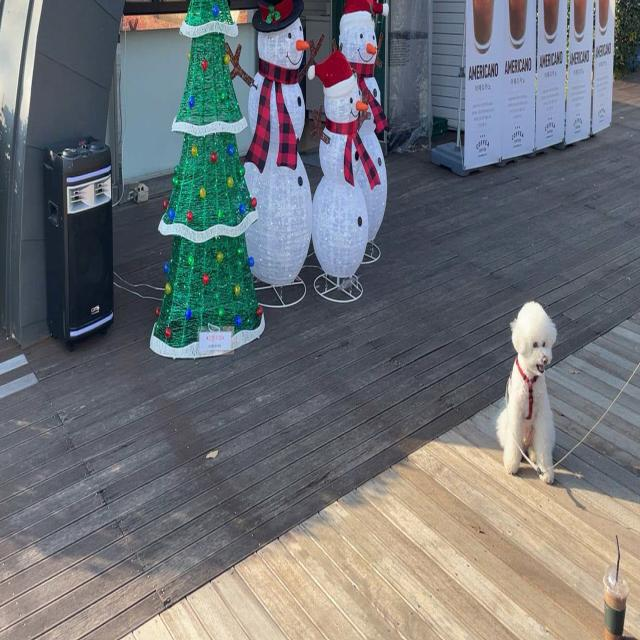Dog: (496, 300, 558, 488)
